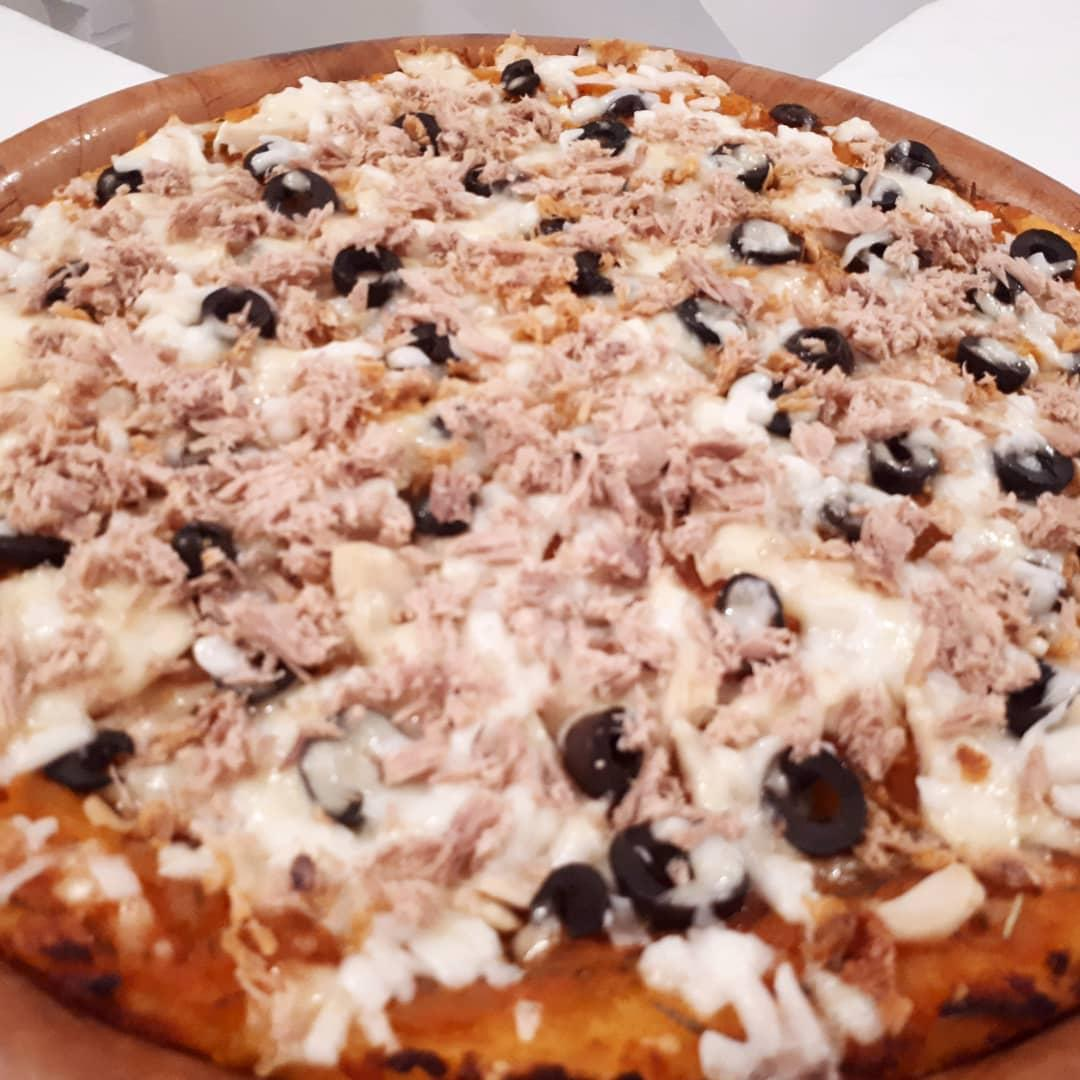Cheese: (663, 929, 853, 1071), (3, 589, 186, 712), (341, 561, 521, 684), (219, 783, 484, 856), (687, 375, 833, 493), (917, 721, 1025, 854), (801, 581, 912, 696), (129, 221, 220, 348), (5, 247, 66, 401), (141, 119, 241, 193), (259, 83, 368, 127)
Olives: (761, 743, 873, 860), (609, 823, 710, 940), (557, 701, 649, 805), (43, 713, 138, 801), (525, 849, 613, 943), (243, 137, 326, 216), (325, 233, 417, 304), (995, 439, 1075, 508), (718, 565, 785, 645), (961, 335, 1040, 394), (203, 273, 280, 333), (1009, 221, 1080, 285), (727, 217, 813, 268), (409, 481, 477, 544), (575, 95, 654, 149), (85, 153, 152, 214), (1013, 661, 1069, 732), (875, 429, 934, 489), (781, 325, 854, 373), (681, 291, 740, 346), (175, 517, 234, 570), (5, 531, 74, 573), (887, 139, 944, 186), (417, 317, 465, 368), (773, 97, 826, 135), (393, 113, 442, 150), (497, 61, 544, 98)
Pizza: (1, 49, 1080, 1080)
